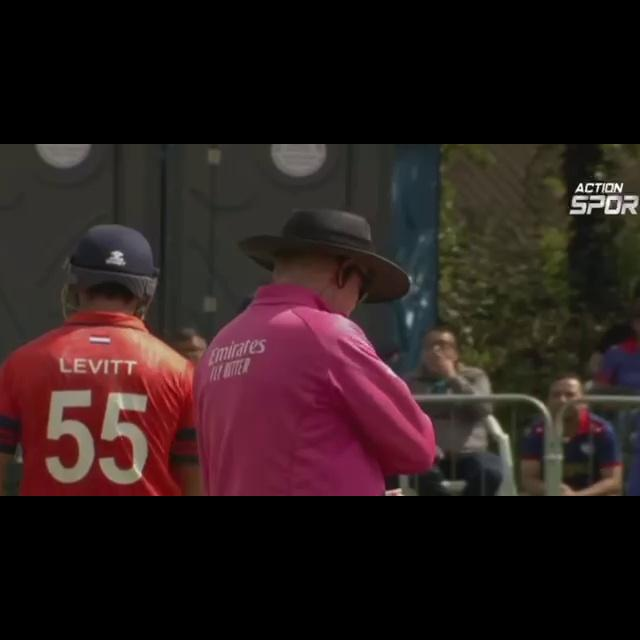umpire: (164, 189, 447, 496)
